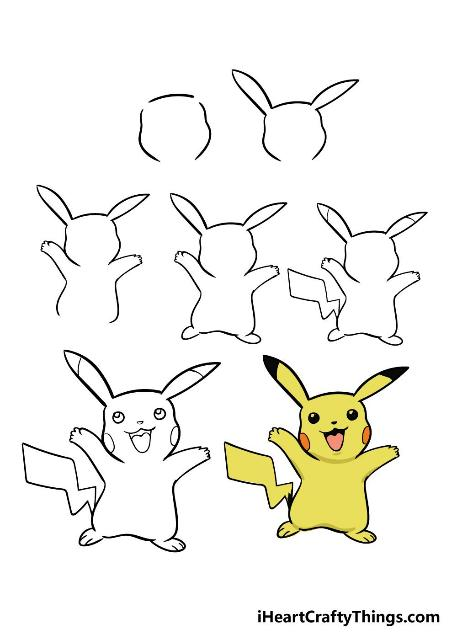pickachu: (19, 351, 223, 554), (220, 353, 408, 543)
